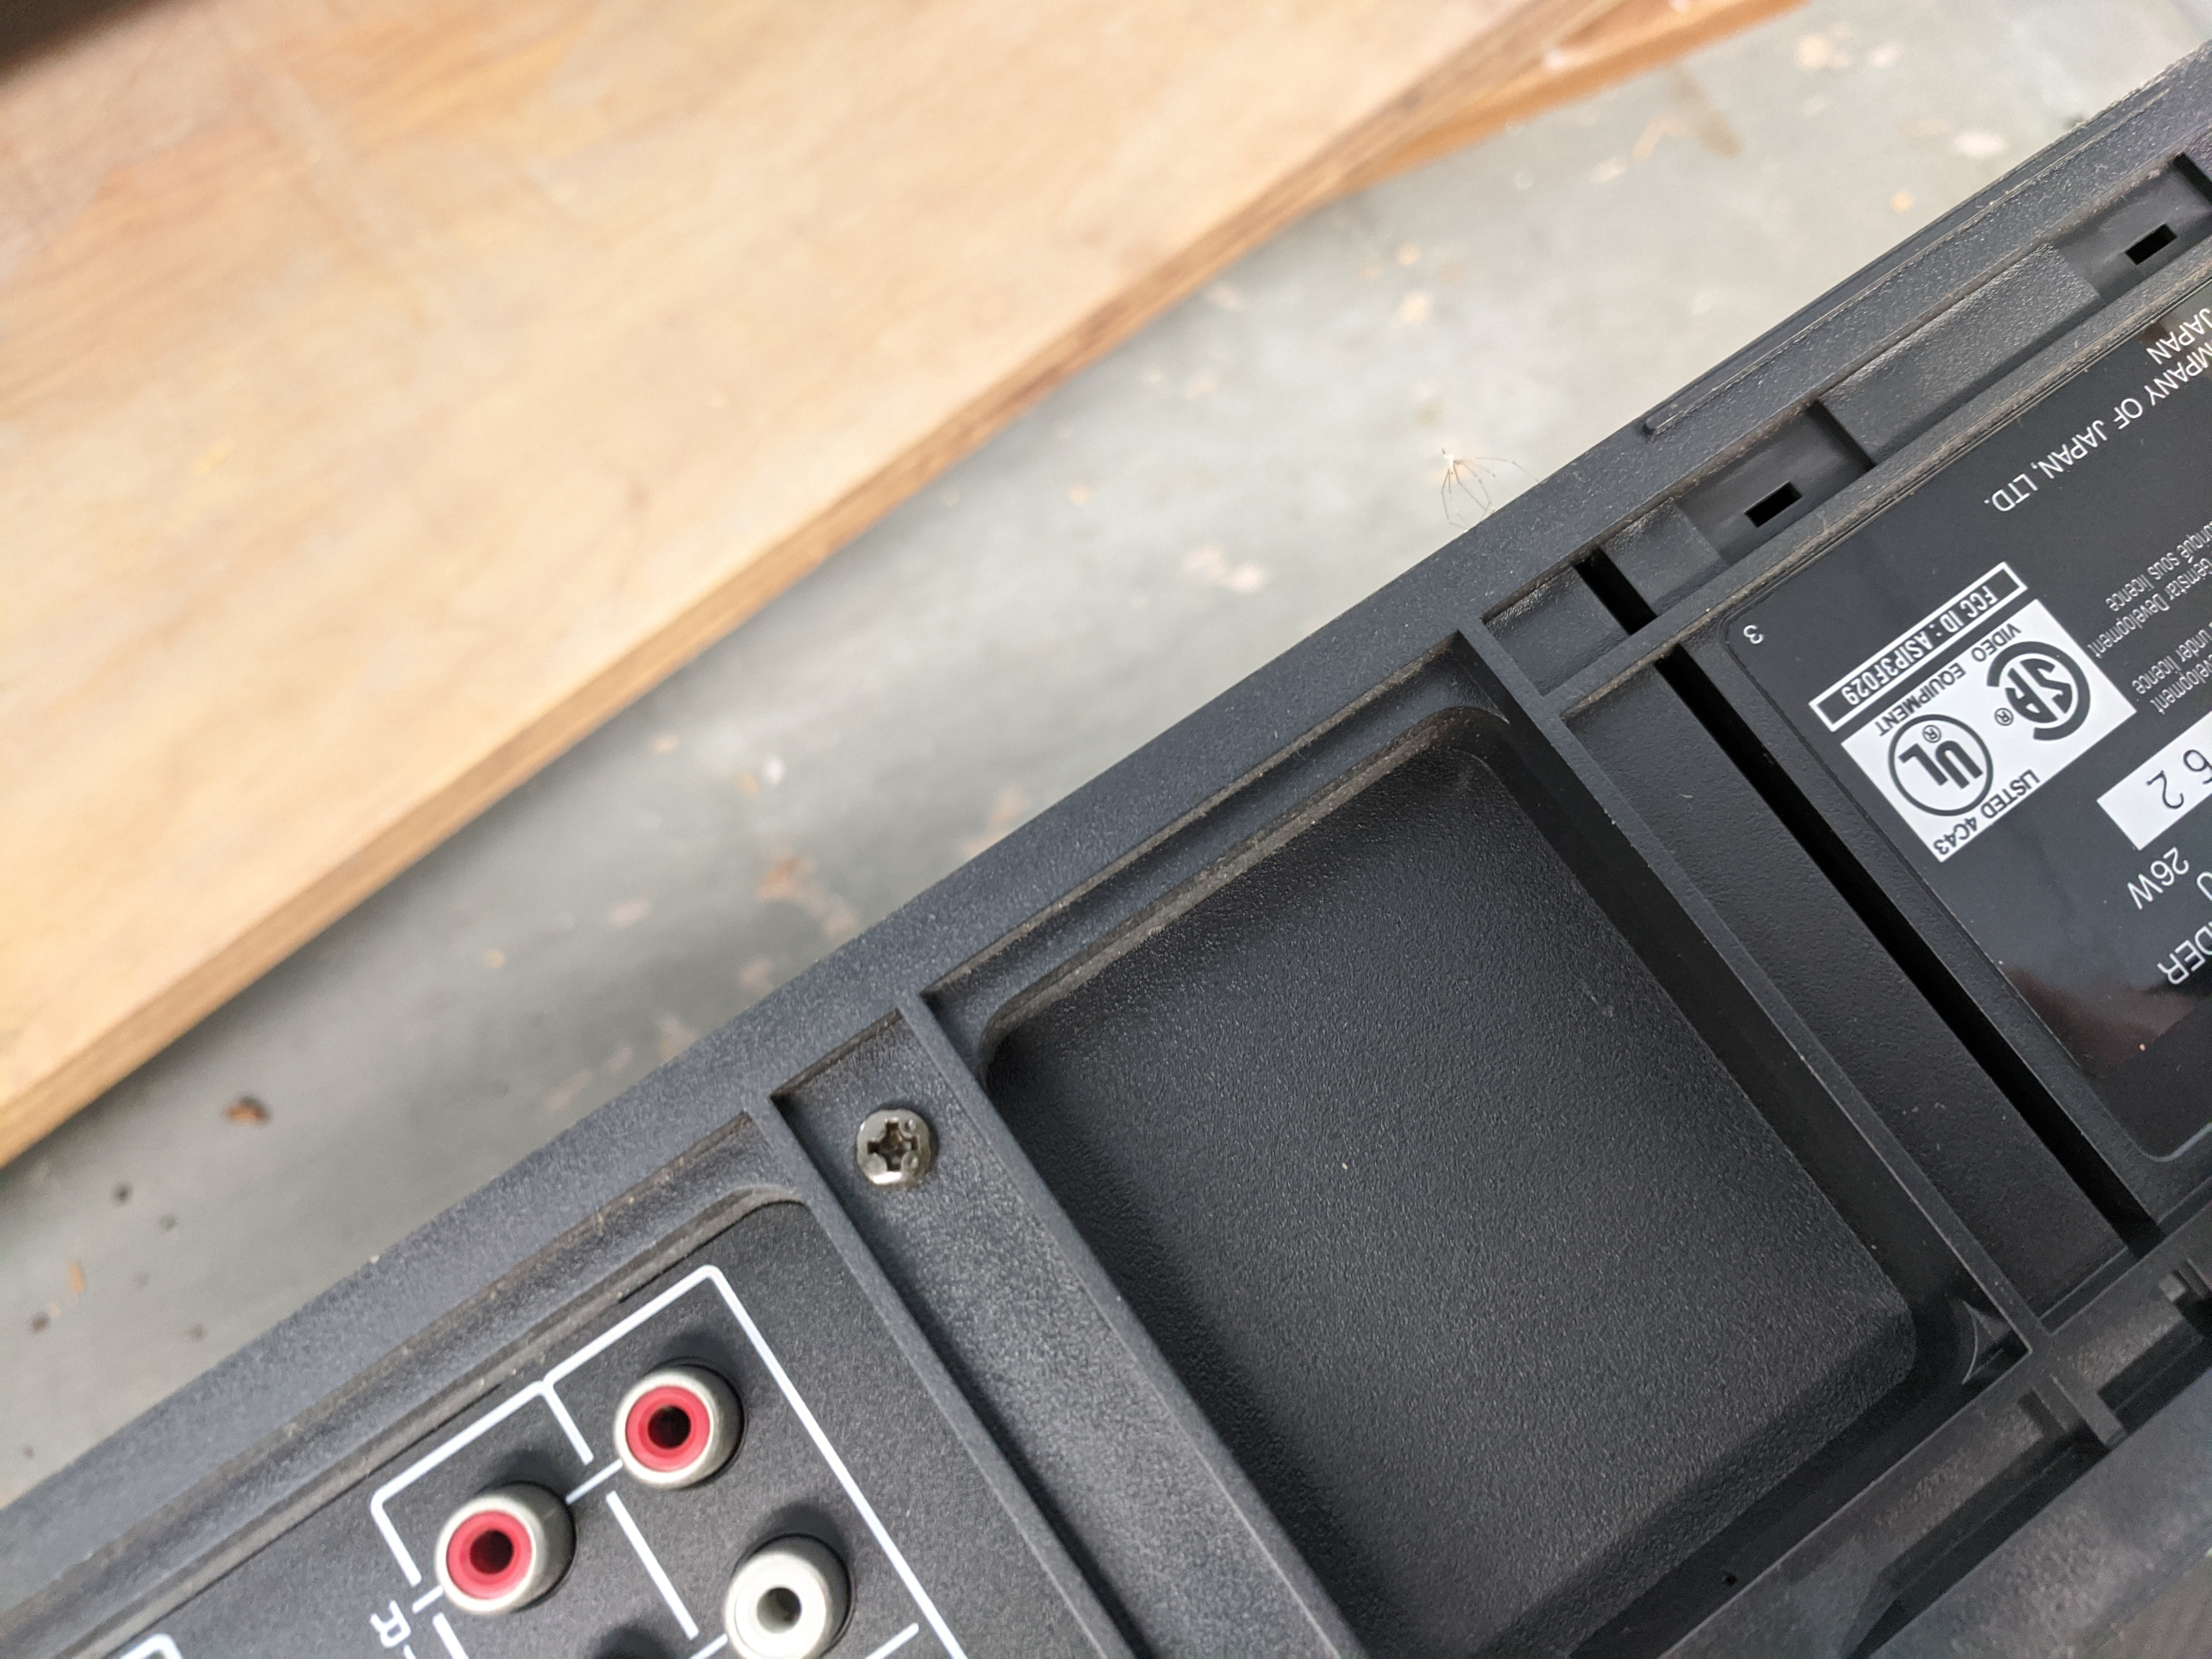cross_recessed_screw: (831, 1093, 956, 1195)
